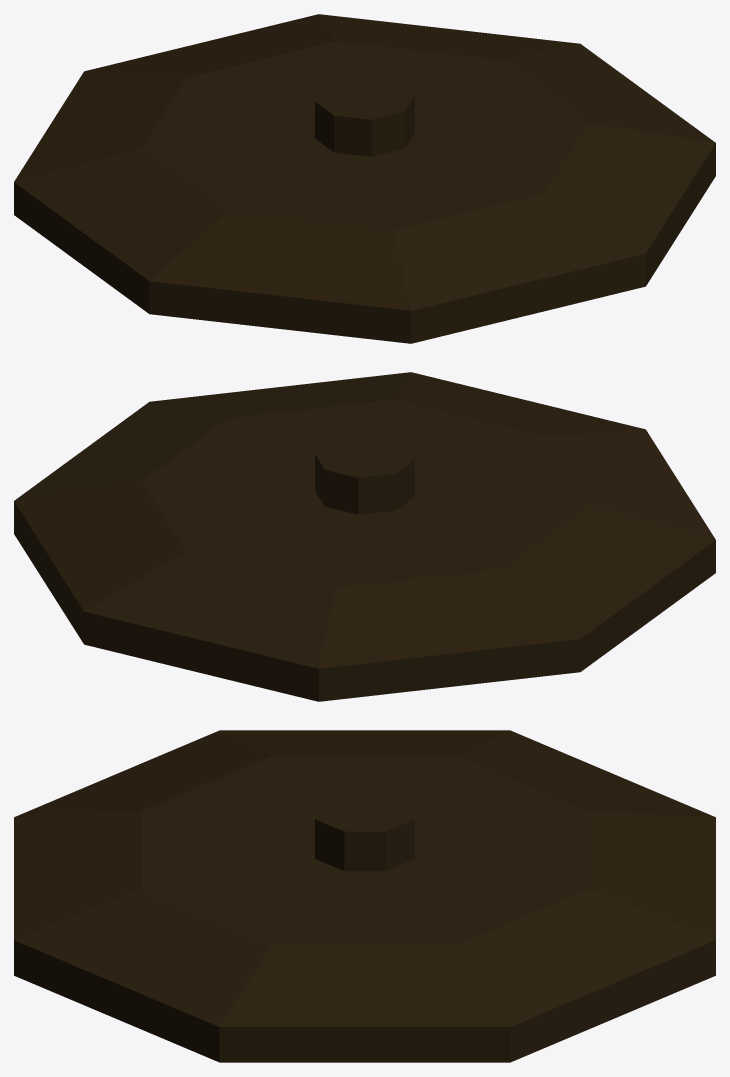
Rendered from Itr_Obj_Coffeepot_Pot_Cap_01.FBX.
The picture shows the model from 3 angles, top to bottom: view 1: azimuth 30°, elevation 25°; view 2: azimuth 150°, elevation 25°; view 3: azimuth 270°, elevation 25°; orthographic projection. The views are drawn at different scales.
Parts seen in each view (by area): view 1: Itr_Obj_Coffeepot_Pot_Cap_01; view 2: Itr_Obj_Coffeepot_Pot_Cap_01; view 3: Itr_Obj_Coffeepot_Pot_Cap_01.
Boxes of the visible parts, bbox=[...] form: Itr_Obj_Coffeepot_Pot_Cap_01: bbox=[14, 14, 715, 343]; Itr_Obj_Coffeepot_Pot_Cap_01: bbox=[14, 372, 715, 701]; Itr_Obj_Coffeepot_Pot_Cap_01: bbox=[14, 730, 715, 1062].
Size of the model in its own units: 4.37 by 0.8671 by 4.37.
